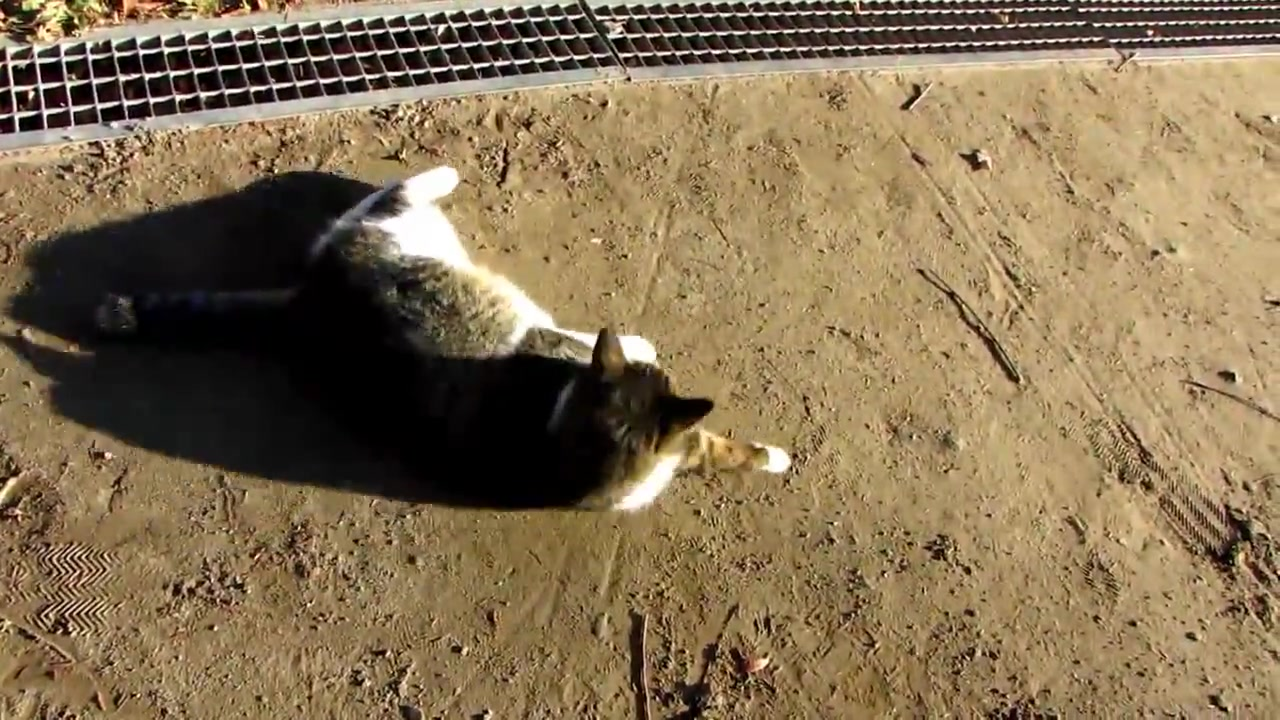cat: (92, 165, 796, 513)
